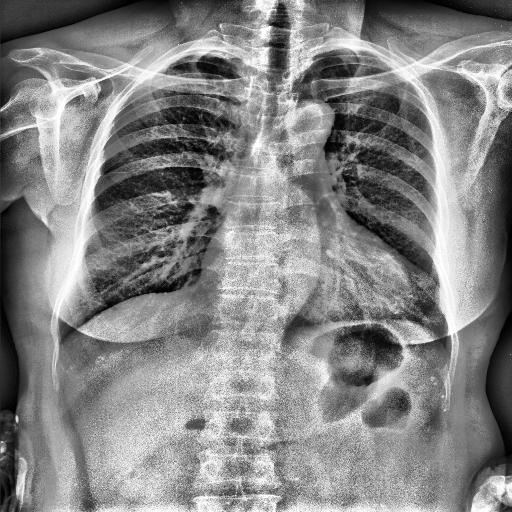0- Aortic enlargement: (288, 100, 334, 136)
11- Pleural thickening: (170, 46, 241, 62), (192, 48, 240, 60)
3- Cardiomegaly: (202, 236, 449, 336), (197, 236, 434, 320), (194, 260, 414, 322)
